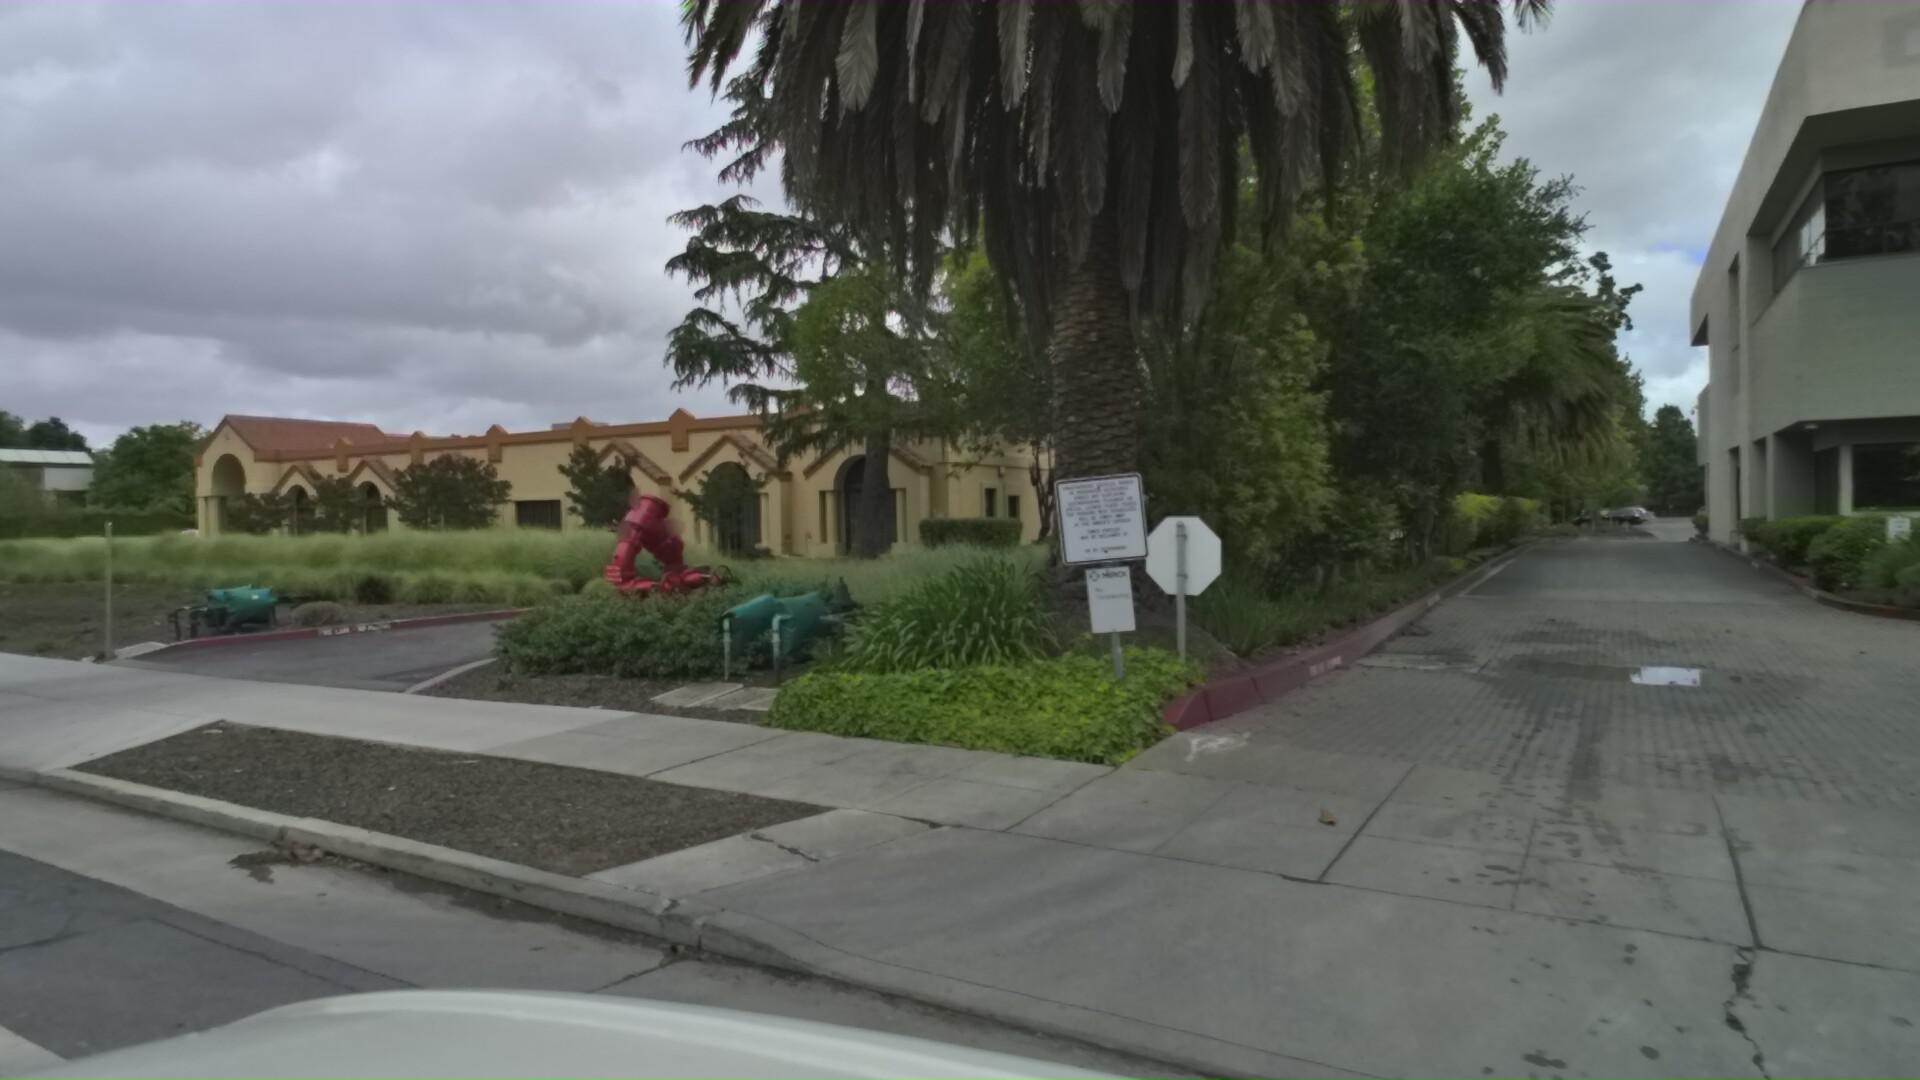car: (0, 531, 25, 566)
